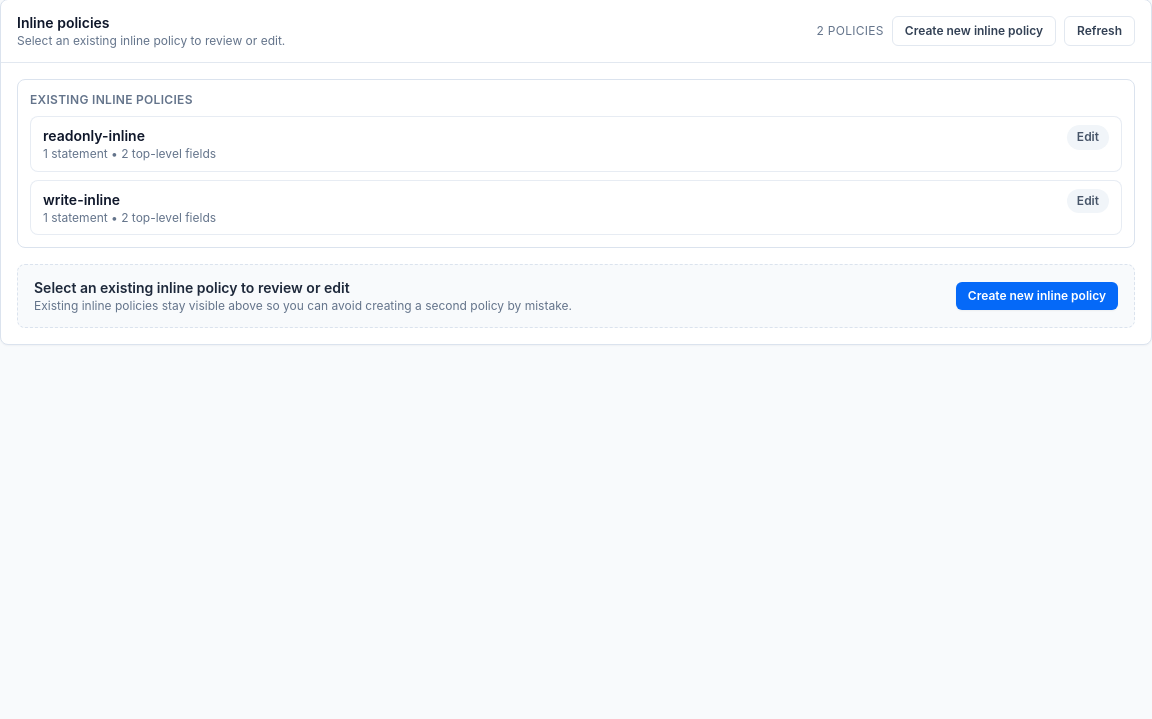
Test case: InlinePolicyEditor › warns when saving with the name of another existing inline policy
Click the button "readonly-inline 1 statement • 2 top-level fields Edit": (94, 136) [30,116,1122,172]
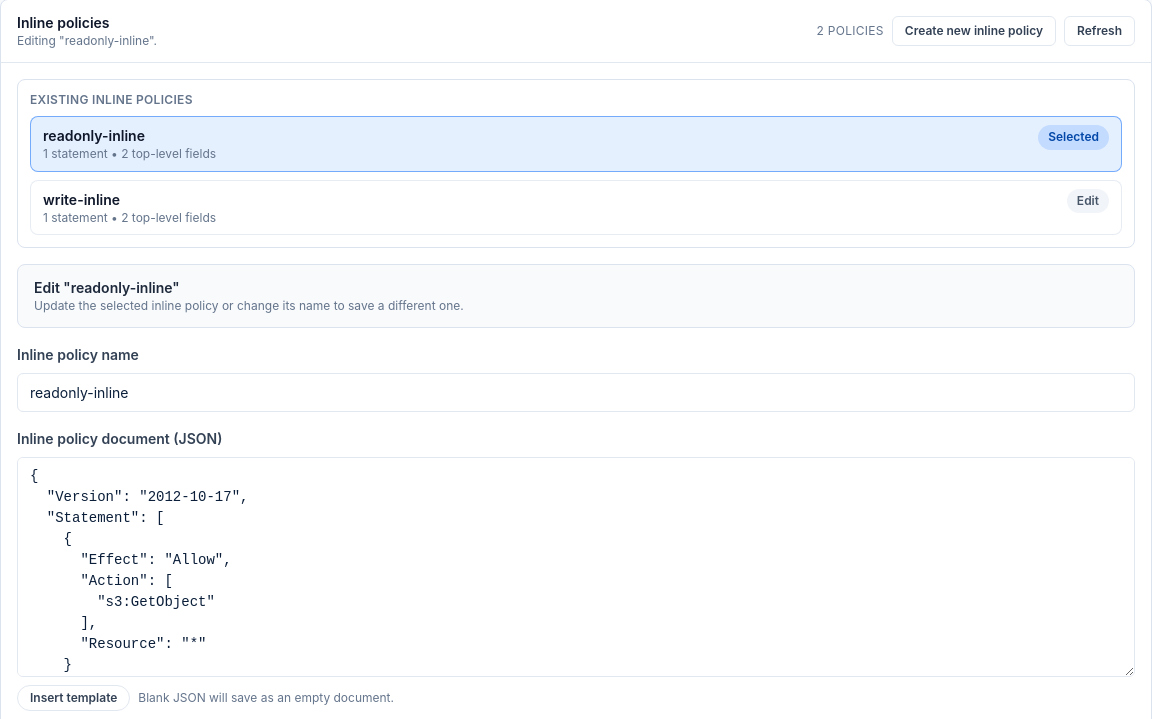
Replace the text in the field labelled "Inline policy name" with "write-inline": (576, 392) [17,372,1135,412]
(page scrolled)
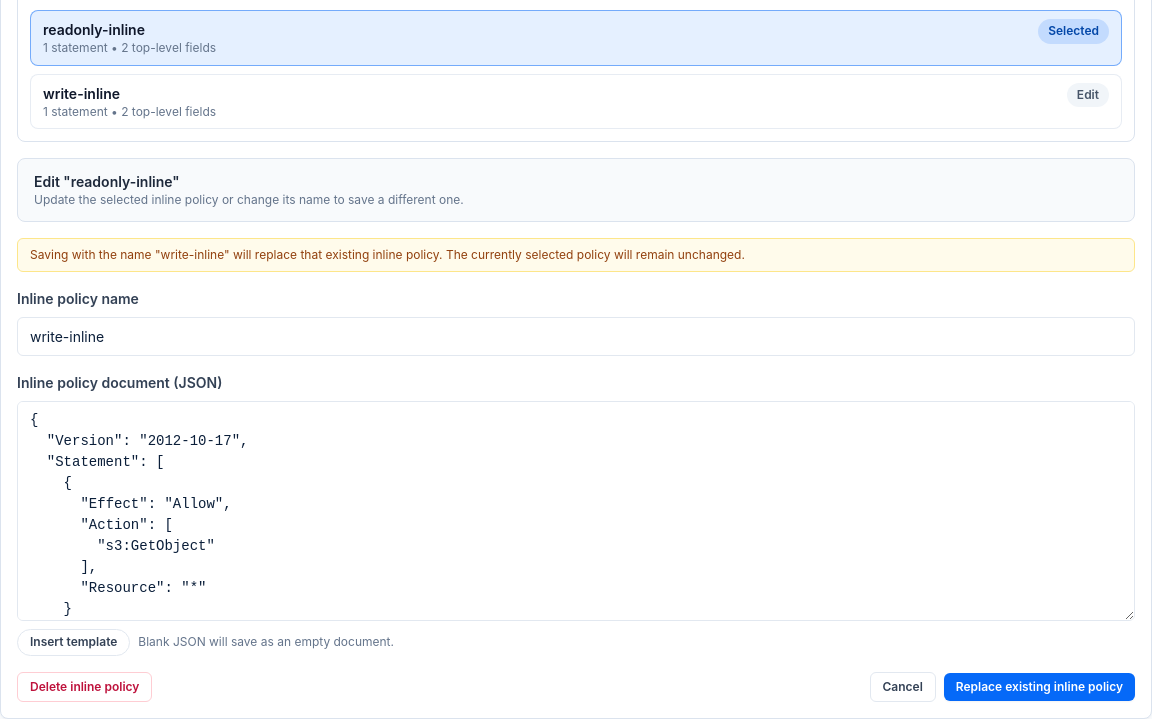
Expected: the text "will replace that existing inline policy" is shown, [224,246,745,262]
Expected: the button "Replace existing inline policy" is shown, [944,672,1135,701]
